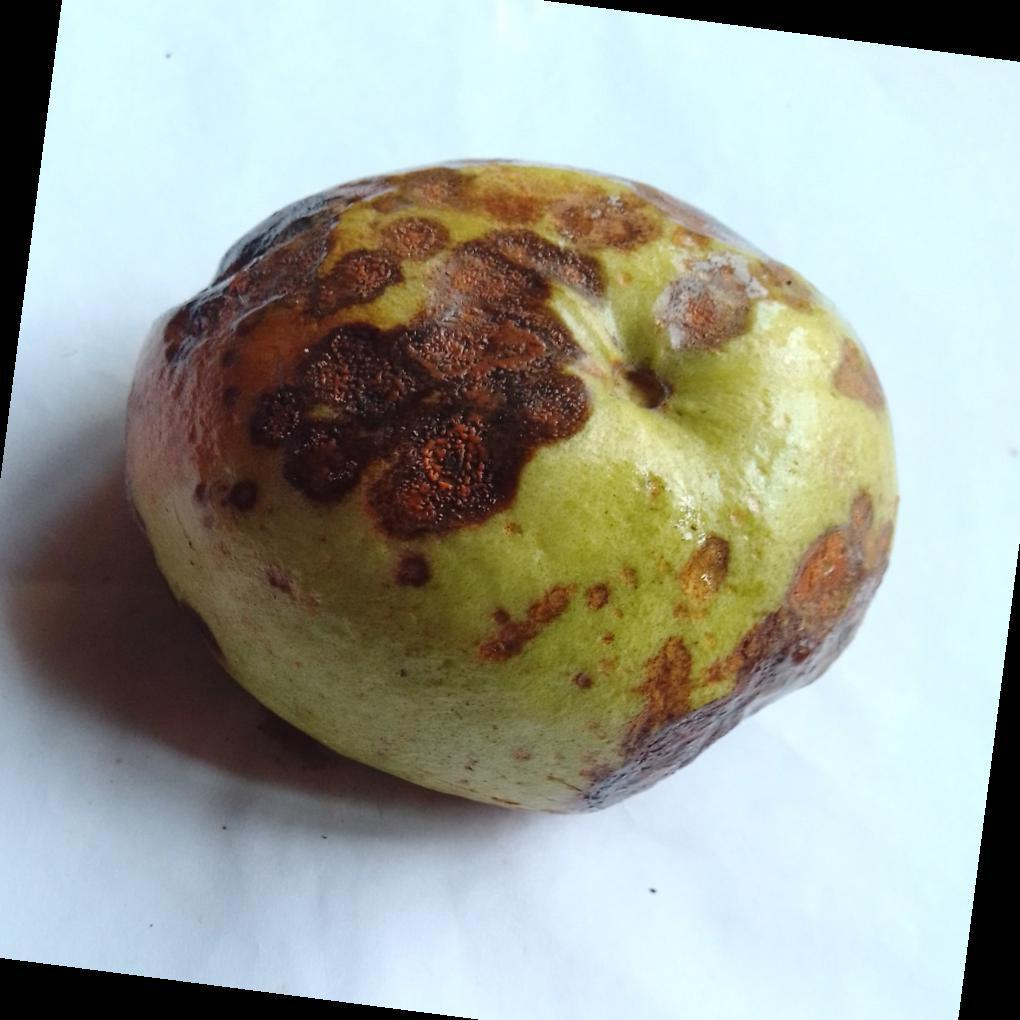FreshOrange: (123, 159, 902, 817)
